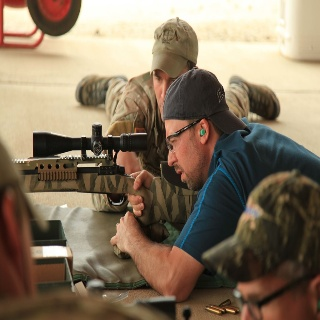rifle: (1, 119, 202, 230)
